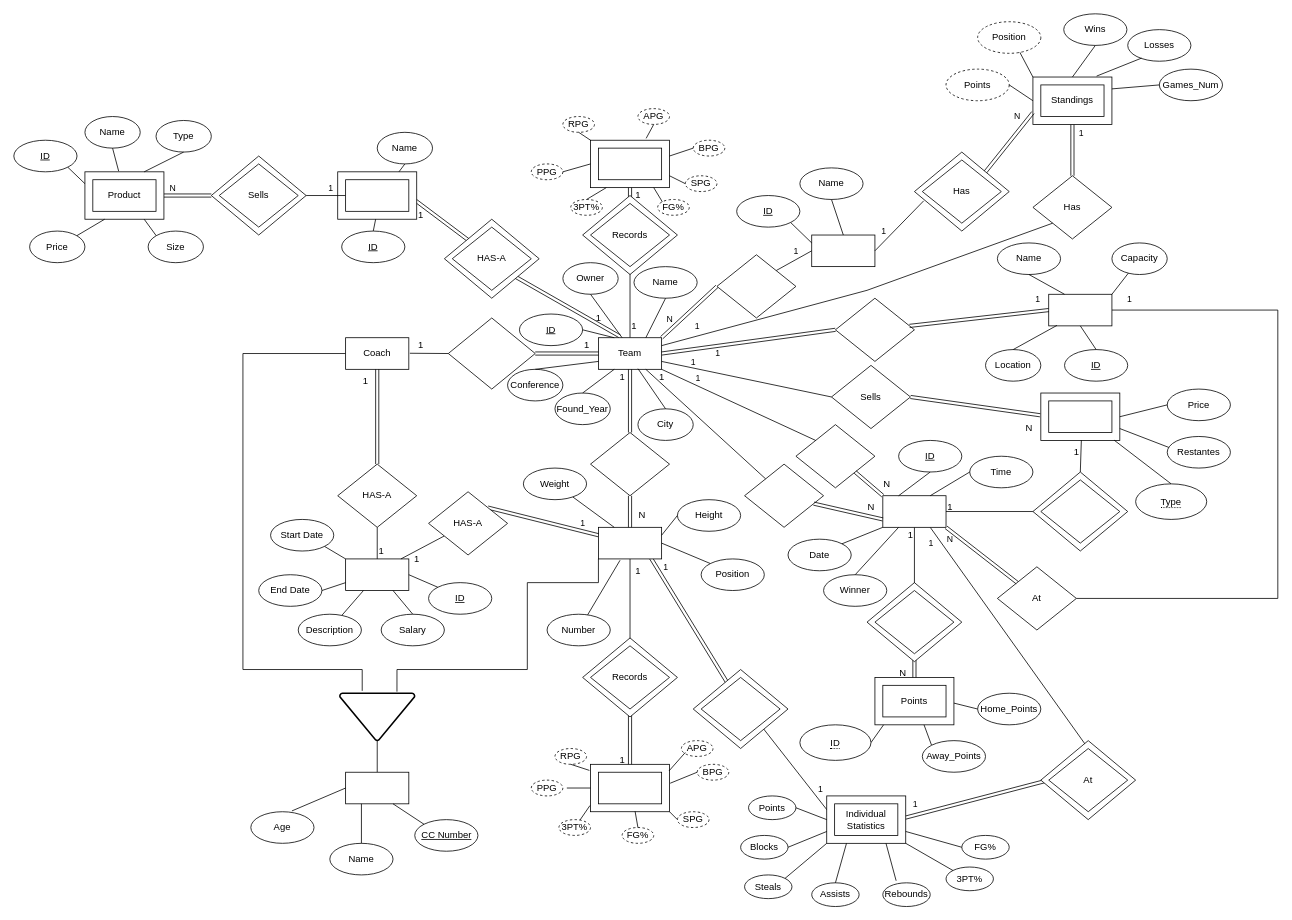
This 1292x920 diagram has some shape labels left out. The centre of each missing label's shape, as x and y in pixels:
Average Individual Statistics: point 630,787
Average Team Statistics: point 630,163
Consist of: point 914,622
Contract: point 377,574
For: point 1080,511
Game: point 914,511
IS-A: point 377,716
League: point 843,250
Located in: point 874,329
Made_By: point 740,709
Main Coached by: point 491,353
Participates In: point 756,286
Person: point 377,787
Player: point 630,543
Plays at Home: point 784,495
Plays Away: point 835,456
Plays for: point 630,464
Stadium: point 1080,309
Store: point 377,195
Ticket: point 1080,416
